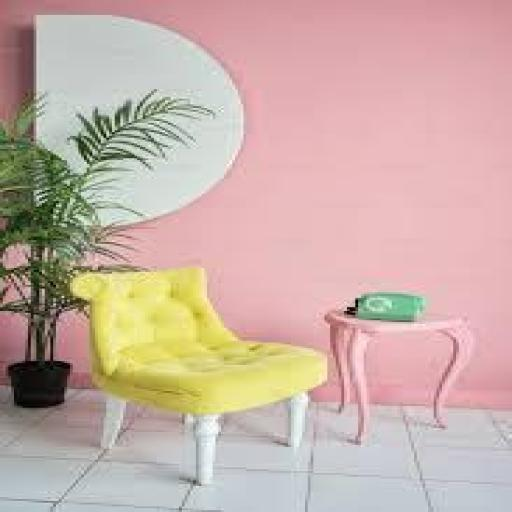chair: (60, 262, 340, 488)
